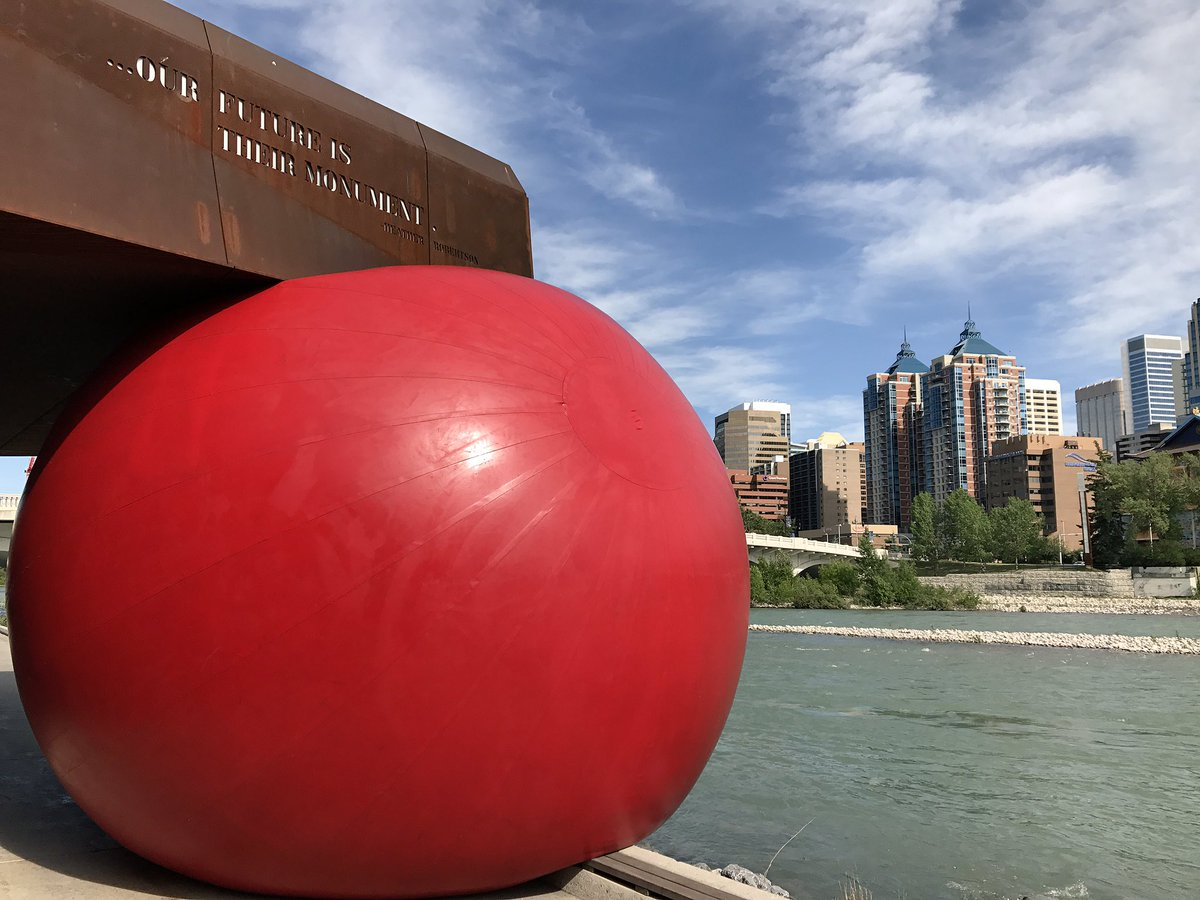red ball: (13, 264, 750, 895)
